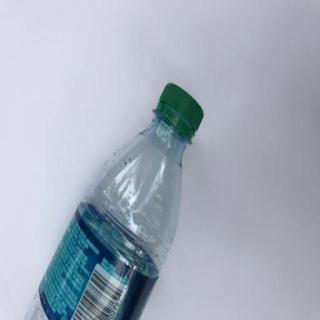Plastic-bottle: (24, 82, 207, 320)
